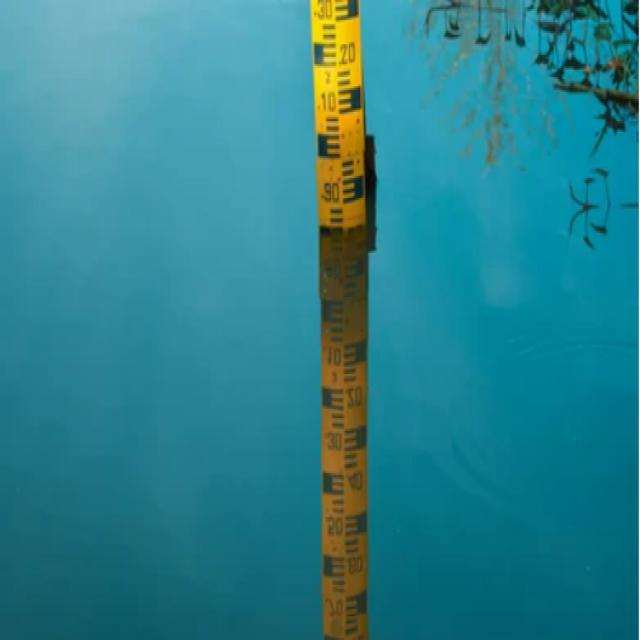ruler: (303, 1, 374, 245)
value: (337, 38, 362, 69), (318, 175, 342, 207), (316, 86, 339, 118), (312, 0, 335, 24)
